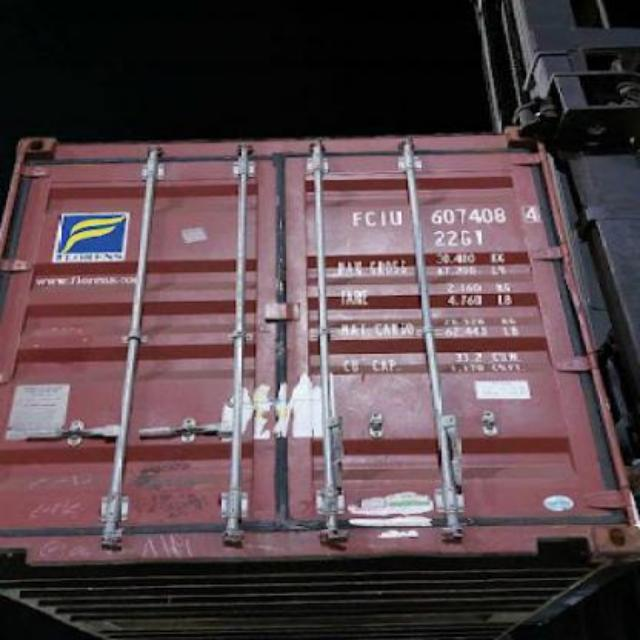0: (481, 204, 494, 228), (442, 204, 454, 226)
4: (520, 199, 542, 225), (468, 204, 480, 226)
6: (430, 206, 442, 228)
7: (454, 204, 468, 226)
8: (494, 204, 506, 228)
C: (364, 206, 376, 228)
F: (348, 206, 364, 230)
I: (378, 207, 388, 230)
U: (391, 208, 404, 228)
